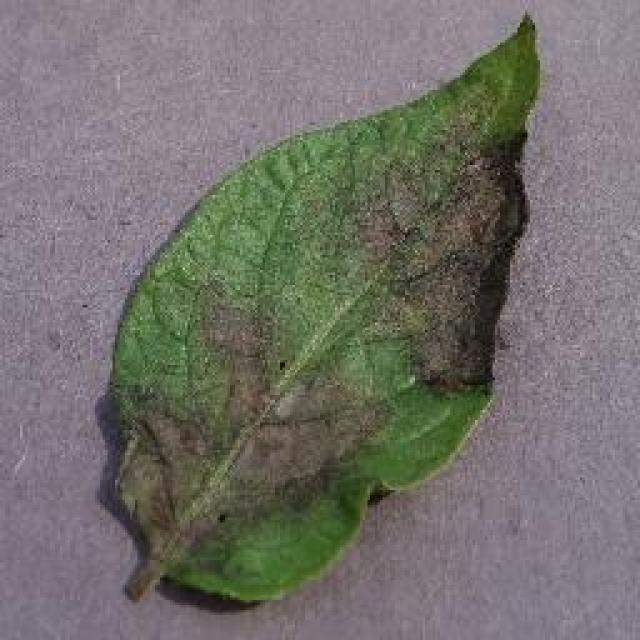late_blight: (100, 8, 545, 610)
